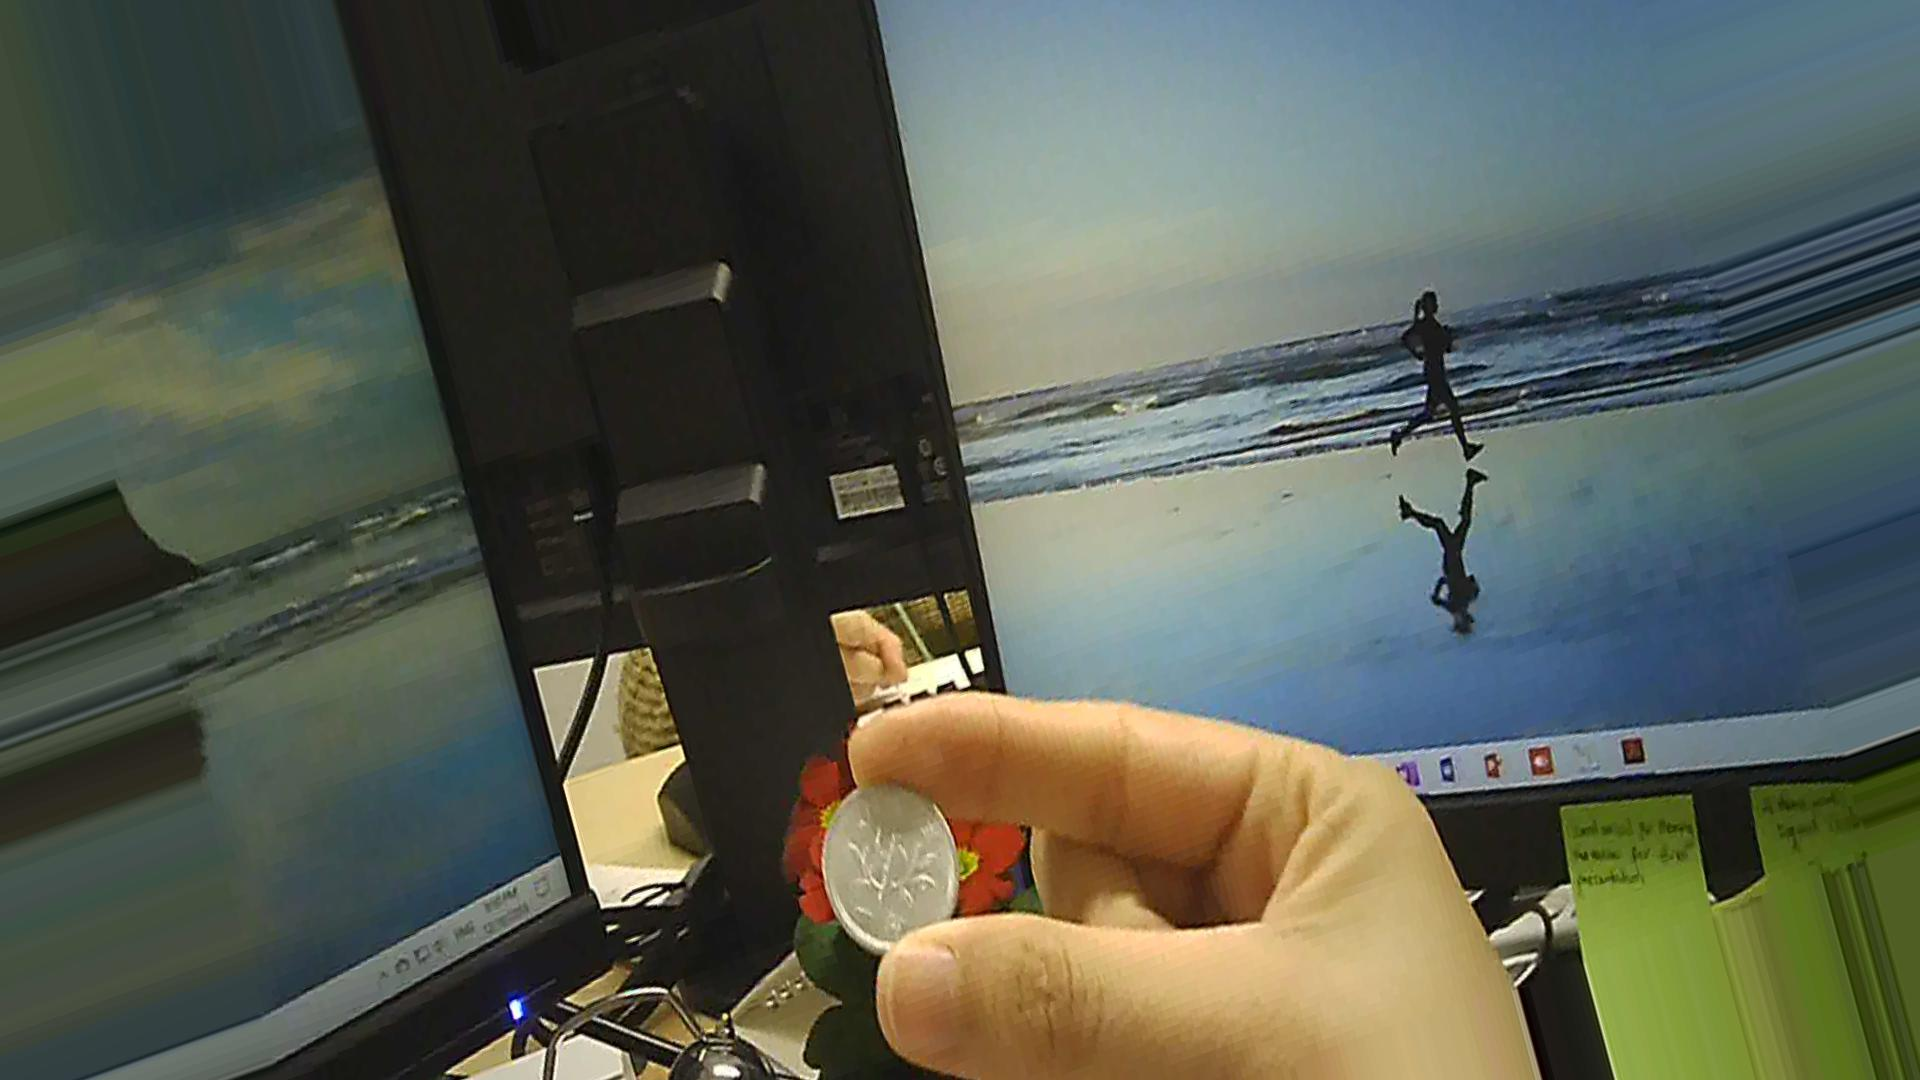1 Yen: (819, 787, 968, 942)
